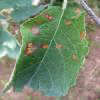Apple rust leaf: (16, 3, 91, 99)
